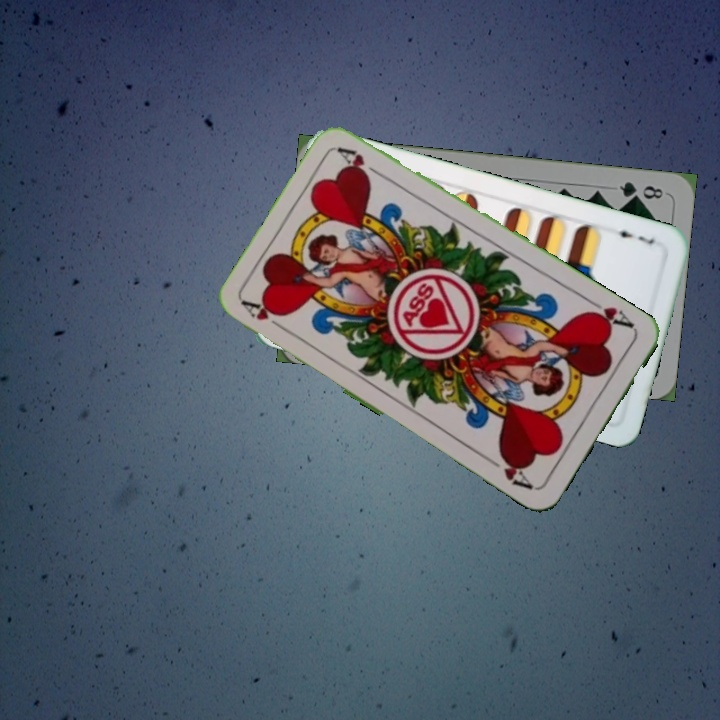E7: (608, 224, 657, 247)
G8: (615, 177, 666, 203)
HA: (239, 296, 292, 336), (581, 295, 638, 332)
